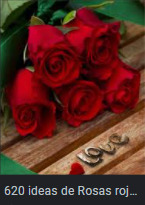RedRose: (20, 16, 89, 87), (2, 65, 62, 140), (69, 5, 125, 64)
